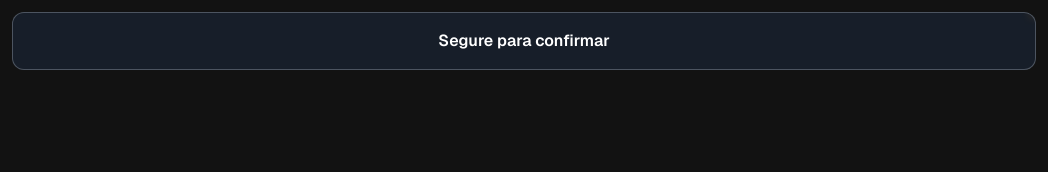
Test: FuseButton › cancels on early release and completes after 2 seconds hold
Press the mouse on the button "Segure para confirmar" at (524, 41), box [12,12,1036,70]
Press the mouse on the button "Segure para confirmar" at (524, 41), box [12,12,1036,70]
Wait 2000 ms
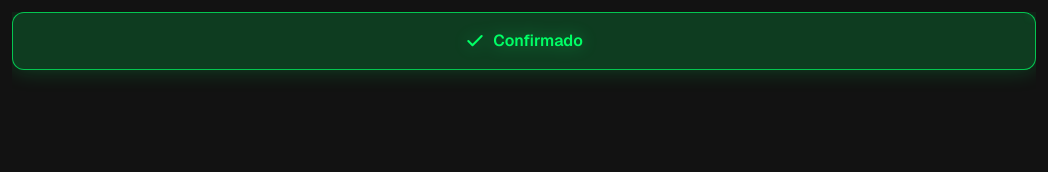
Check: the text "Confirmado" is shown, box [493,29,583,53]
